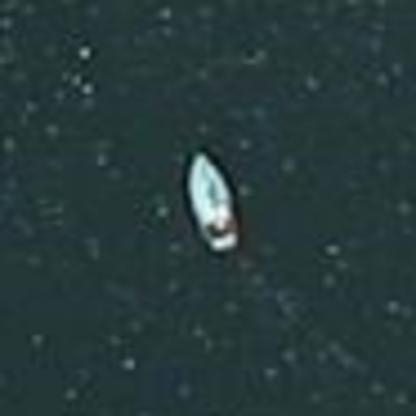ship: (172, 143, 250, 257)
